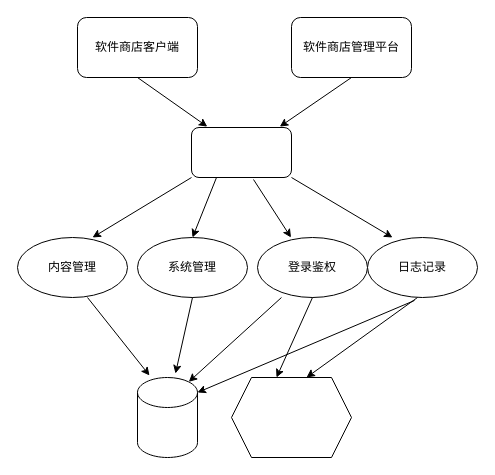
Image size: 495x475. Some labels were removed from this diagram. The shapes that lost their labels are listed below. From the top down, each one's box as (x1, y1, x2, y2) in pixels, then its label:
(190, 126, 292, 178): 网关API
(136, 376, 198, 458): mysql
(230, 376, 352, 458): redis
